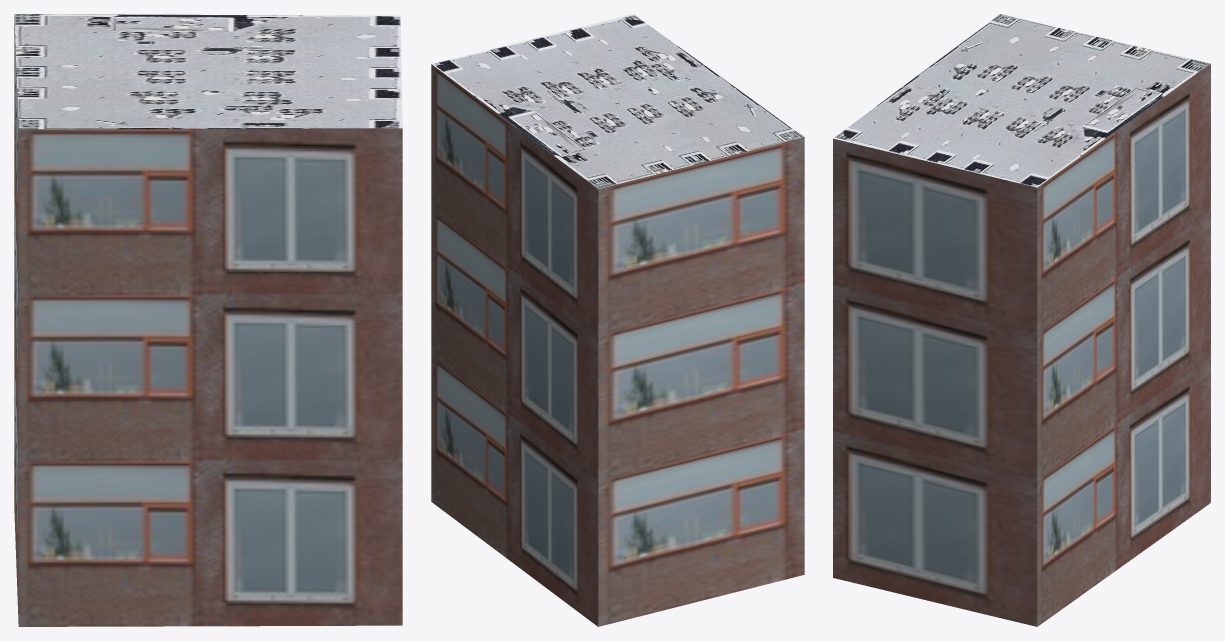
File: ResTex__775.fbx
The picture shows the model from 3 angles, left to right: view 1: azimuth 30°, elevation 25°; view 2: azimuth 150°, elevation 25°; view 3: azimuth 270°, elevation 25°; orthographic projection. The views are drawn at different scales.
Parts seen in each view (by area): view 1: CityEngineMaterial_19_m, CityEngineMaterial_15_m; view 2: CityEngineMaterial_19_m, CityEngineMaterial_15_m; view 3: CityEngineMaterial_19_m, CityEngineMaterial_15_m.
Boxes of the visible parts, <box> form: CityEngineMaterial_19_m: <box>14,16,402,626</box>; CityEngineMaterial_15_m: <box>14,14,402,129</box>; CityEngineMaterial_19_m: <box>431,64,804,626</box>; CityEngineMaterial_15_m: <box>431,14,803,188</box>; CityEngineMaterial_19_m: <box>833,64,1210,626</box>; CityEngineMaterial_15_m: <box>833,14,1210,187</box>.
Bounding box in the file's own units: 7.63 × 9 × 7.02.
Materials: 2 (2 with a texture image).
